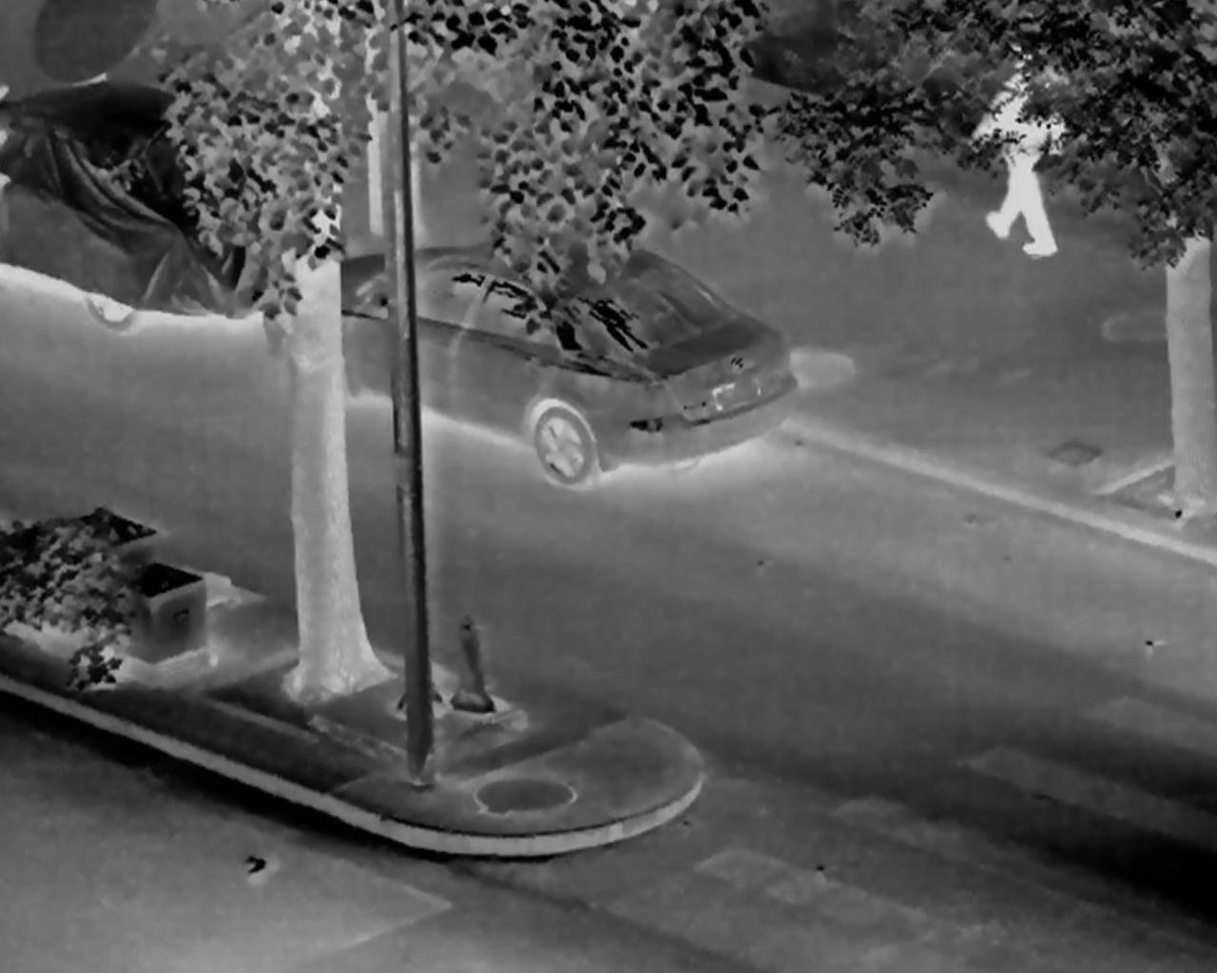person: (969, 29, 1062, 256)
